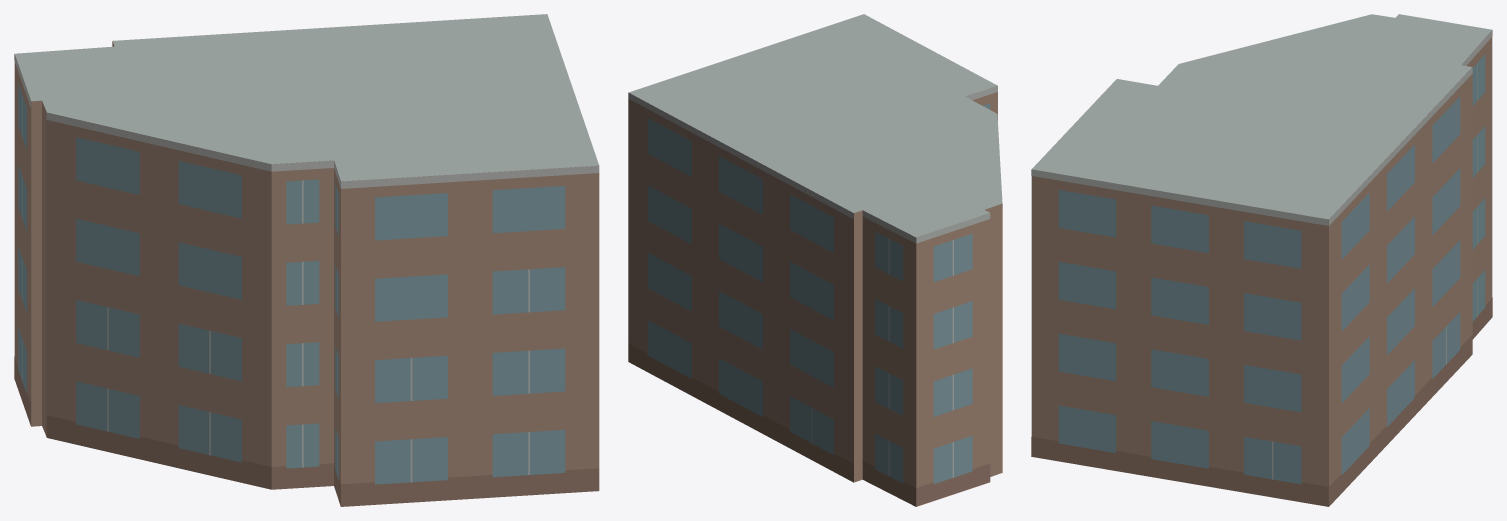
File: survey-upis-33009784.glb
The picture shows the model from 3 angles, left to right: view 1: azimuth 30°, elevation 25°; view 2: azimuth 150°, elevation 25°; view 3: azimuth 270°, elevation 25°; orthographic projection. The views are drawn at different scales.
Visible parts, largest first — view 1: survey-upis-33009784.tmp; view 2: survey-upis-33009784.tmp; view 3: survey-upis-33009784.tmp.
Part boxes in pixels (x1,y1,x2,y2): survey-upis-33009784.tmp: (14, 14, 599, 506); survey-upis-33009784.tmp: (628, 14, 1002, 506); survey-upis-33009784.tmp: (1031, 14, 1492, 506).
Bounding box in the file's own units: 16.41 × 10.7 × 15.56.
